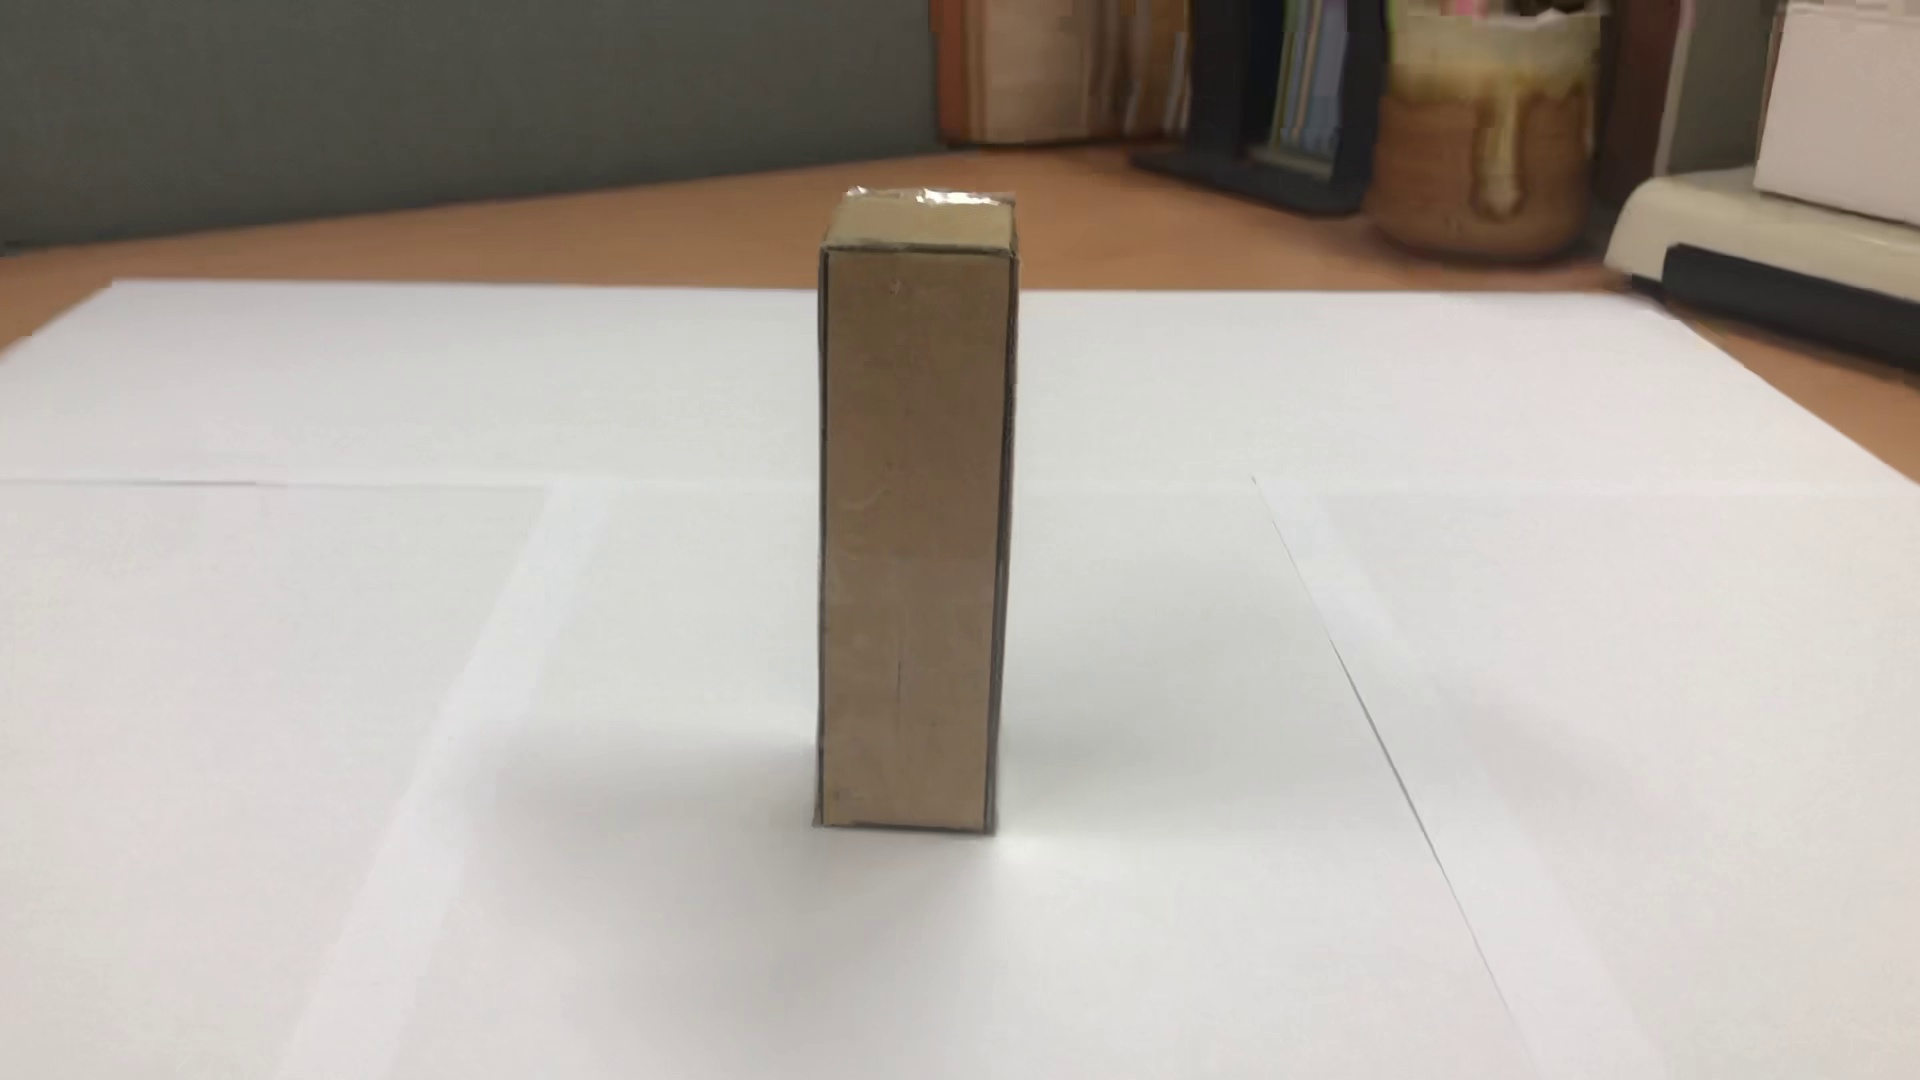box: (789, 156, 1034, 873)
